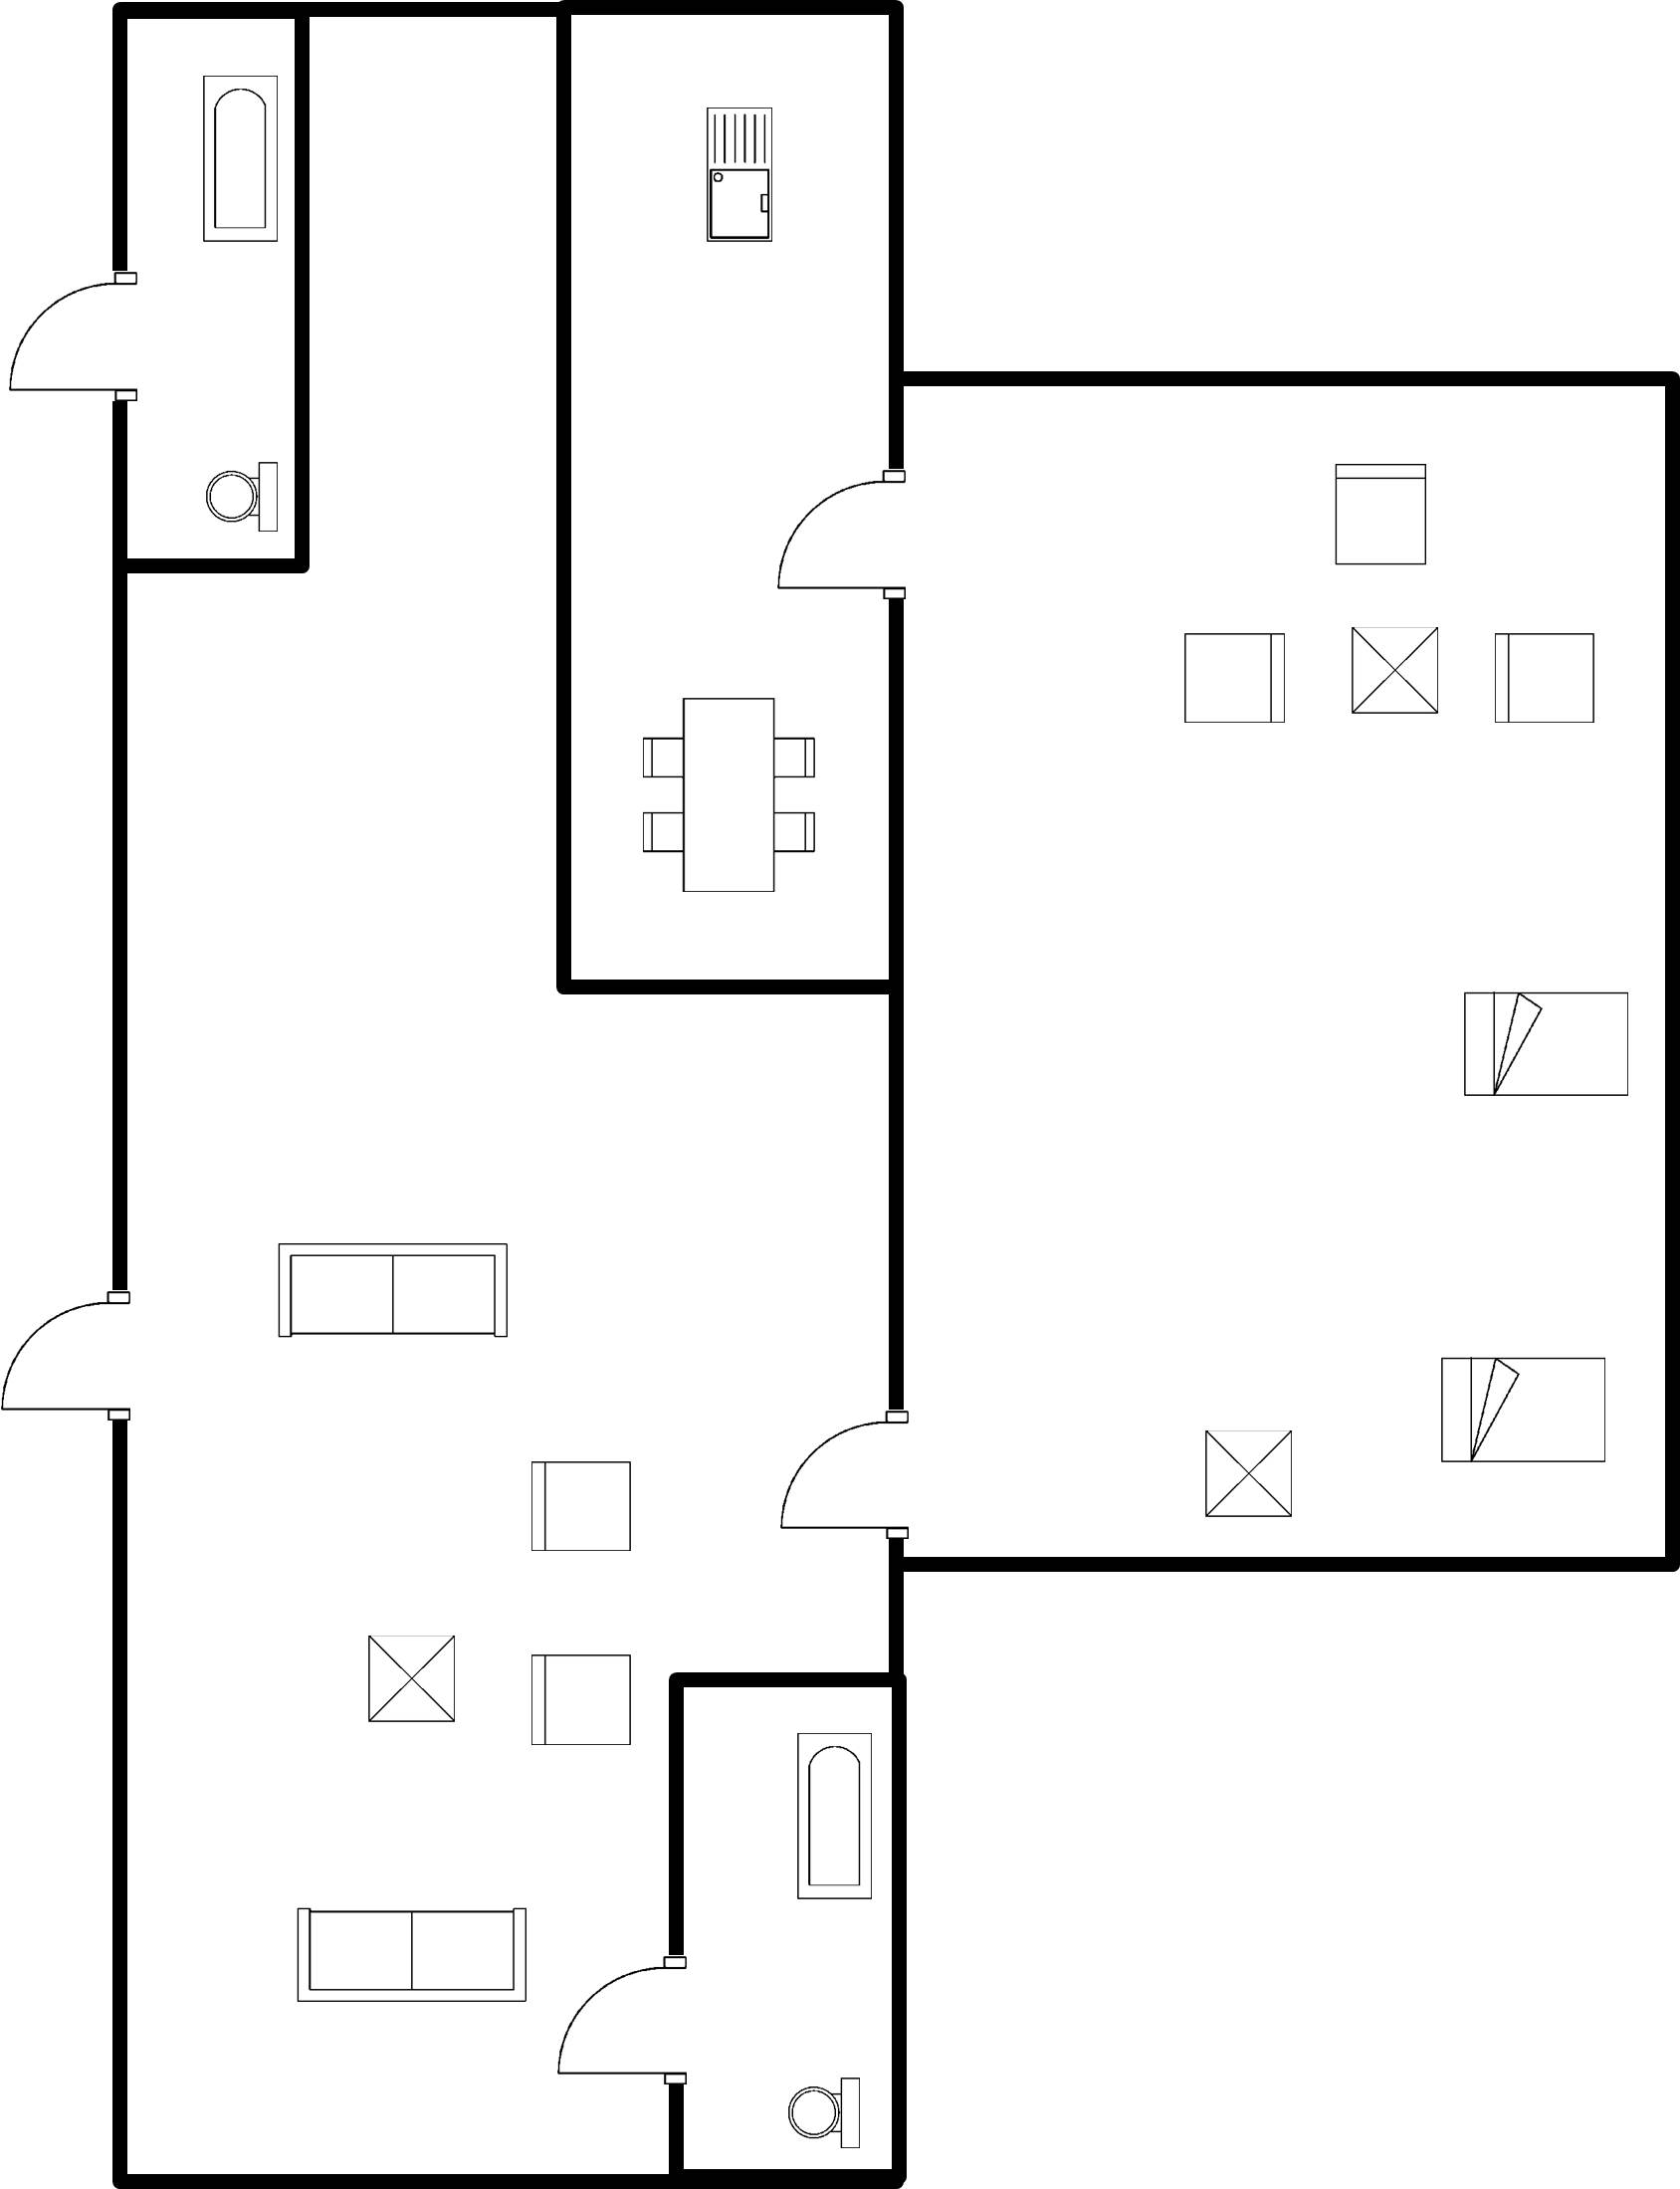bed: (1451, 977, 1650, 1115), (1427, 1341, 1624, 1474)
coffee_table: (1180, 1417, 1311, 1531), (352, 1620, 473, 1741), (1335, 609, 1453, 731)
dining_table: (625, 685, 826, 910)
large_sink: (192, 451, 290, 542)
large_sofa: (257, 1223, 523, 1349), (277, 1898, 542, 2018)
sink: (694, 99, 789, 254)
small_sofa: (1479, 620, 1611, 748), (1315, 449, 1442, 576), (508, 1448, 644, 1561), (1172, 620, 1293, 741), (517, 1643, 642, 1758)
tub: (179, 60, 287, 259)
